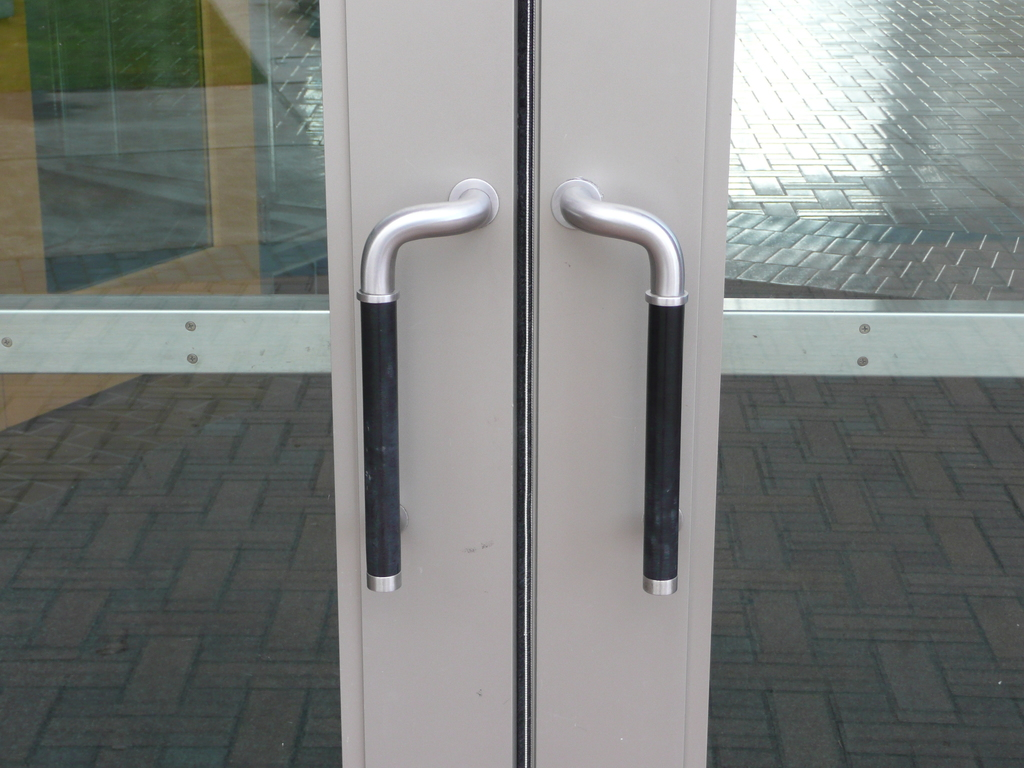door: (7, 10, 505, 758), (546, 9, 1017, 762)
handle: (346, 167, 494, 596), (554, 187, 690, 599)
